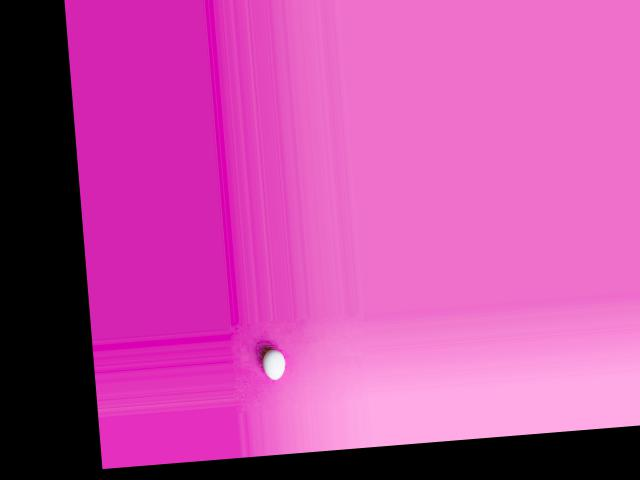egg: (262, 348, 287, 380)
